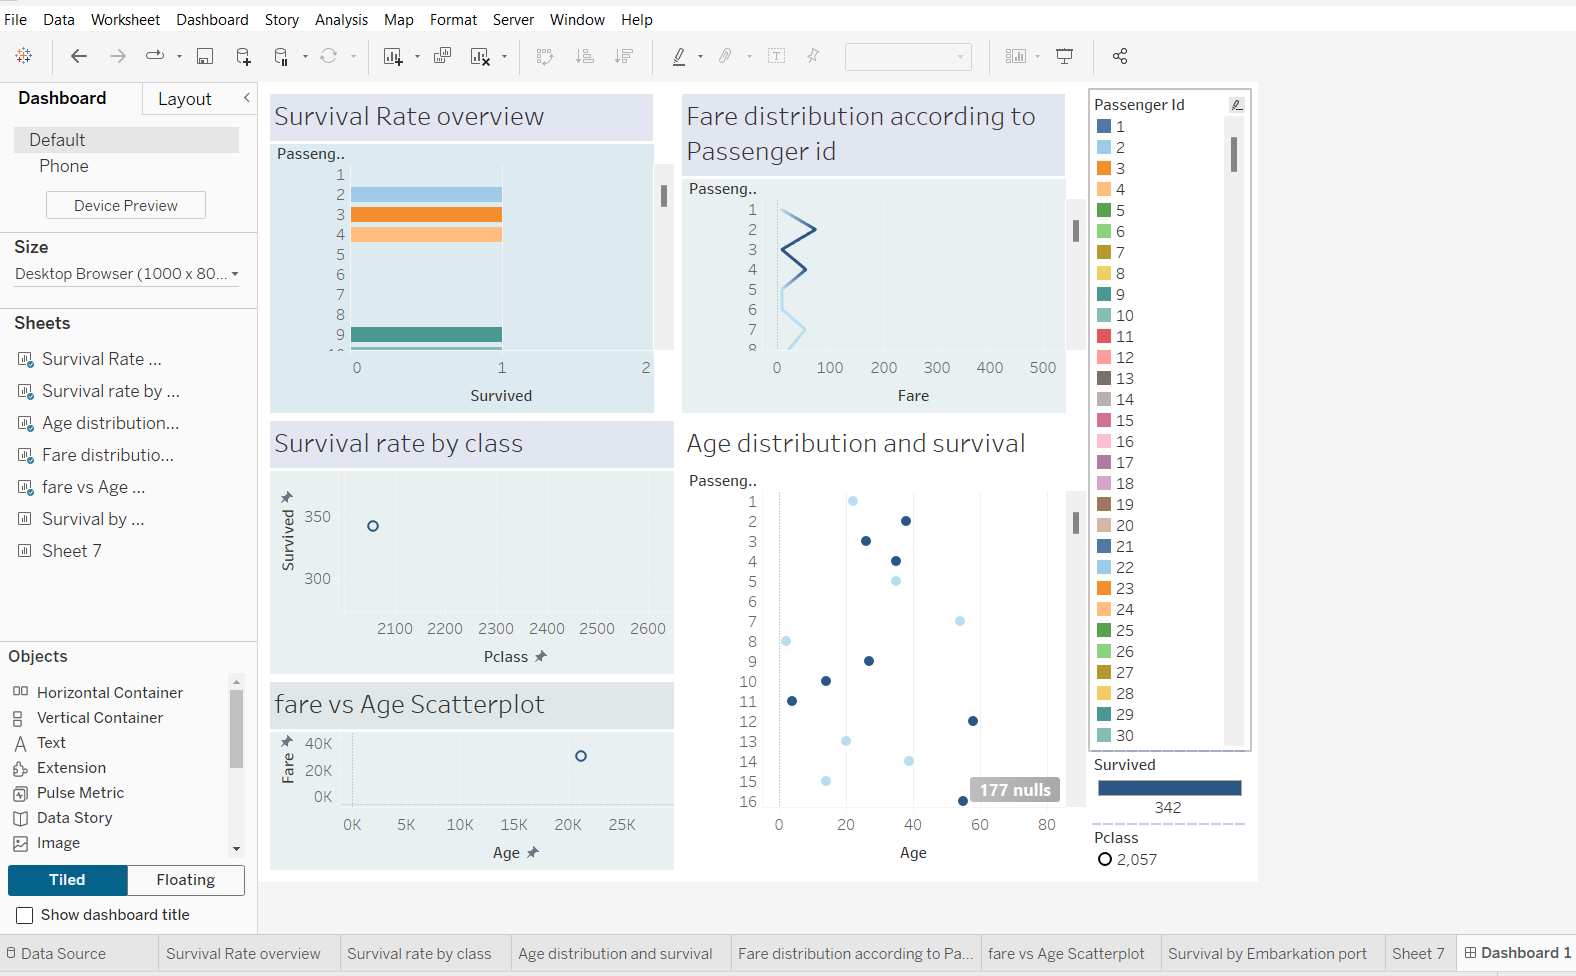

Layout of this report page (visuals, bound fields, positions):
{"tool":"tableau","page":{"name":"Dashboard 1","canvas":[1000,800],"ordinal":0},"visuals":[{"type":"worksheet","title":"Survival Rate overview ","mark":"Automatic","rows":["PassengerId"],"cols":["Survived"],"box":[8,8,412,327]},{"type":"worksheet","title":"Fare distribution according to Passenger id ","mark":"Line","rows":["PassengerId"],"cols":["Fare"],"box":[420,8,412,327]},{"type":"legend","title":"Survival Rate overview ","param":"[federated.1oyrfu10jy0zu31atd3zb1wya698].[none:PassengerId:ok]","box":[832,8,160,660]},{"type":"worksheet","title":"Survival rate by class ","mark":"Automatic","rows":["Survived"],"cols":["Pclass"],"box":[8,335,412,261]},{"type":"worksheet","title":"Age distribution and survival","mark":"Circle","rows":["PassengerId"],"cols":["Age"],"box":[420,335,206,457]},{"type":"worksheet","title":"Survival by Embarkation port","mark":"Area","rows":["Survived"],"cols":["Embarked"],"box":[626,335,206,457]},{"type":"worksheet","title":"fare vs Age Scatterplot","mark":"Automatic","rows":["Fare"],"cols":["Age"],"box":[8,596,412,196]},{"type":"legend","title":"Survival rate by class ","param":"[federated.1oyrfu10jy0zu31atd3zb1wya698].[sum:Survived:qk]","box":[832,668,160,73]},{"type":"legend","title":"fare vs Age Scatterplot","param":"[federated.1oyrfu10jy0zu31atd3zb1wya698].[sum:Pclass:ok]","box":[832,741,160,51]}]}

Visuals, with their boxes on the page's 1000x800 design canvas (x1, y1, x2, y2). These are canvas units, not pixel positions in the 1576x976 screenshot, which may show the page scaled, cropped or inside an application window:
"Survival Rate overview " worksheet: 8, 8, 420, 335
"Fare distribution according to Passenger id " worksheet (Line marks): 420, 8, 832, 335
"Survival Rate overview " legend: 832, 8, 992, 668
"Survival rate by class " worksheet: 8, 335, 420, 596
"Age distribution and survival" worksheet (Circle marks): 420, 335, 626, 792
"Survival by Embarkation port" worksheet (Area marks): 626, 335, 832, 792
"fare vs Age Scatterplot" worksheet: 8, 596, 420, 792
"Survival rate by class " legend: 832, 668, 992, 741
"fare vs Age Scatterplot" legend: 832, 741, 992, 792
